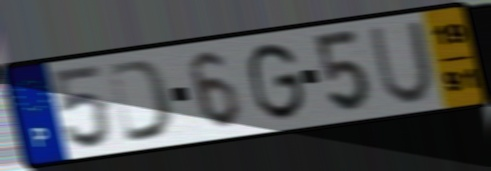5: (46, 62, 118, 151), (310, 26, 375, 116)
6: (187, 48, 245, 132)
D: (105, 56, 177, 146)
G: (246, 39, 309, 124)
U: (367, 18, 437, 107)
